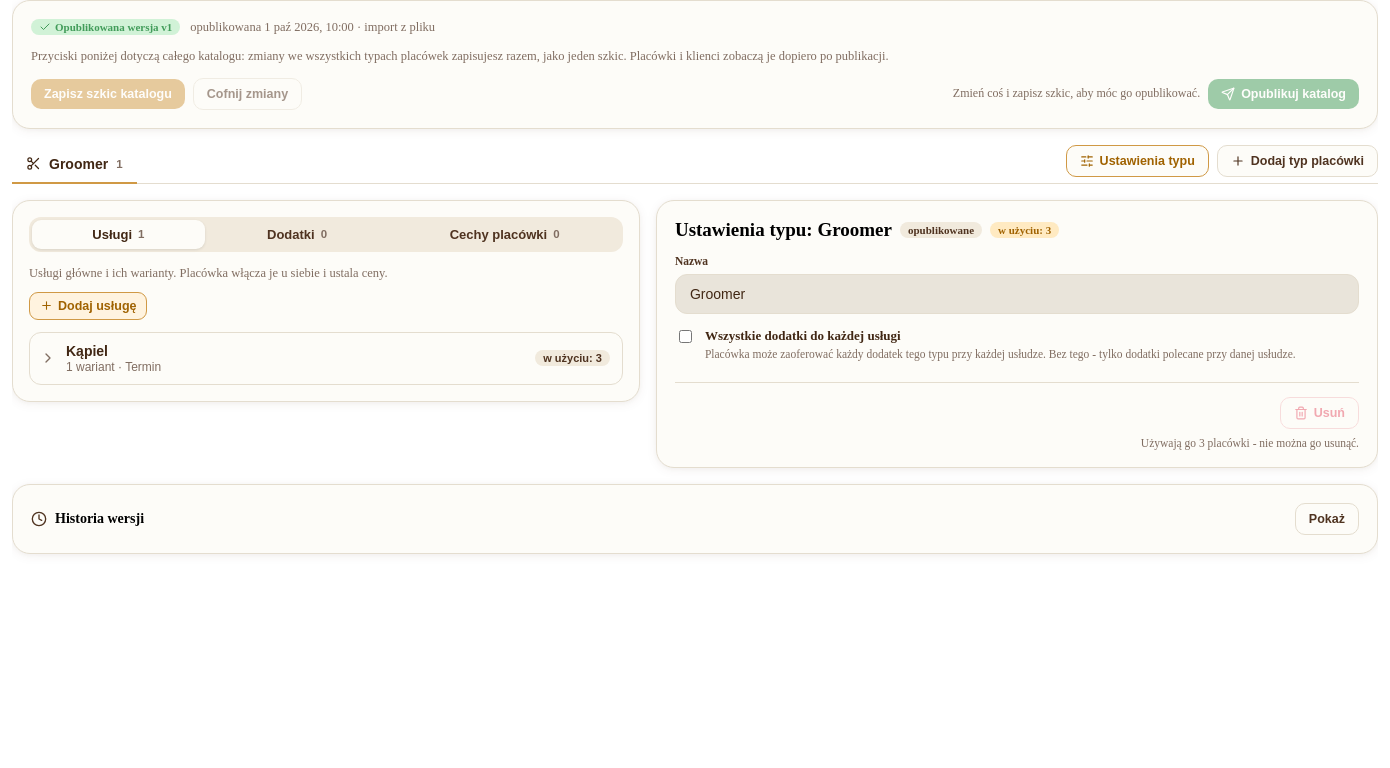
Test case: Katalog usług › shows the published catalog and locks what providers use
expect the text "Opublikowana wersja v1" is shown: met, box [31,19,180,35]
What coordinates should you click on to do the following:
click the button "Kąpiel 1 wariant · Termin w użyciu: 3"
I would click on:
 (87, 351)
Its box is [62,333,622,384].
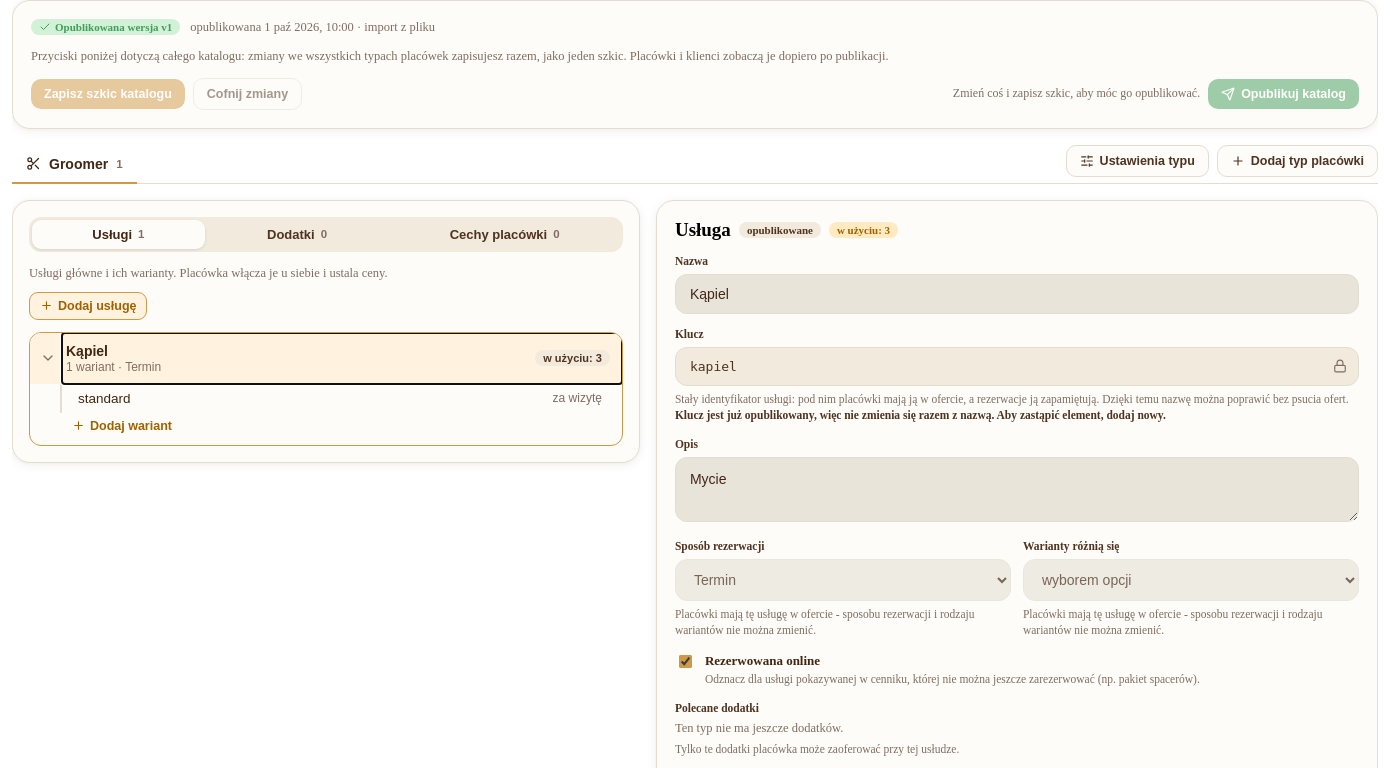
expect the heading "Usługa" is shown: met, box [675,219,731,241]
expect the dropdown labelled "Warianty różnią się" is disabled: met, box [1023,559,1359,601]
